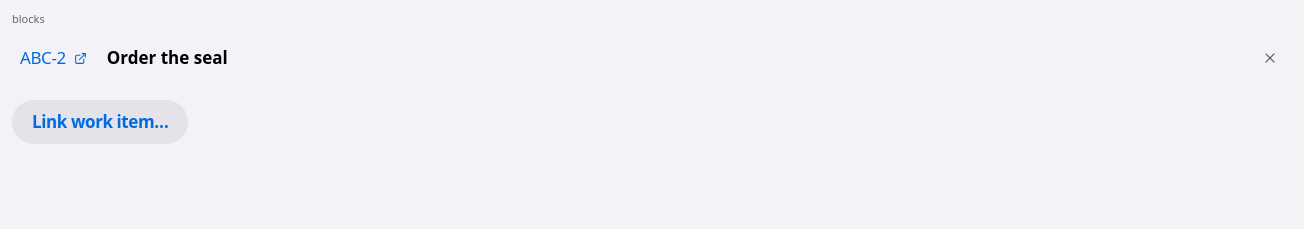
Test case: unlinking › reports a refused unlink and leaves the row alone
Click the button titled "Unlink ABC-2 from ABC-1" at (1270, 58), box [1248,36,1292,80]
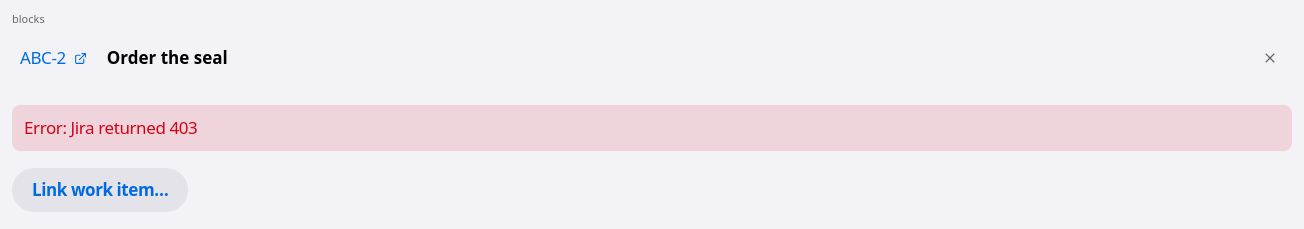
Expected: the text "Error: Jira returned 403" is shown, [12,105,1292,151]
